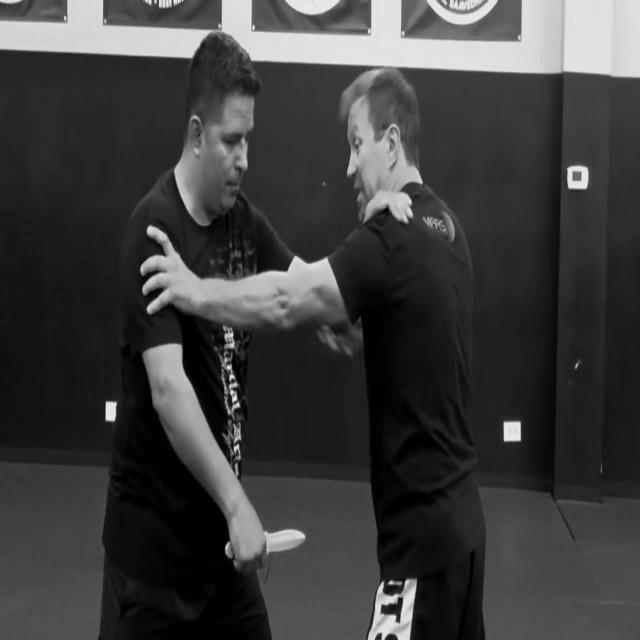knife: (225, 529, 308, 558)
